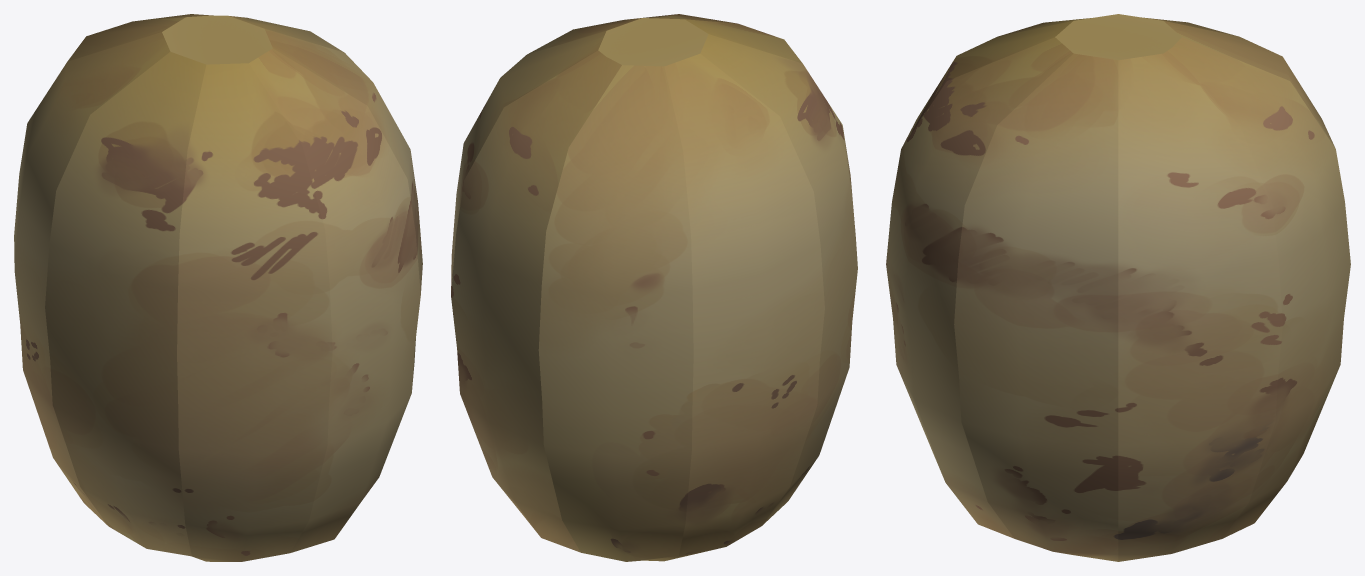
The model's file is potato.fbx.
3 views of the same model, side by side, from view 1: azimuth 30°, elevation 25°; view 2: azimuth 150°, elevation 25°; view 3: azimuth 270°, elevation 25° (orthographic).
Parts seen in each view (by area): view 1: potopo; view 2: potopo; view 3: potopo.
Part boxes in pixels (bbox=[...]): potopo: bbox=[14, 14, 422, 561]; potopo: bbox=[451, 14, 857, 561]; potopo: bbox=[886, 14, 1350, 561].
Size of the model in its own units: 7.91 by 10.91 by 9.15.
1 material, 1 textured.
